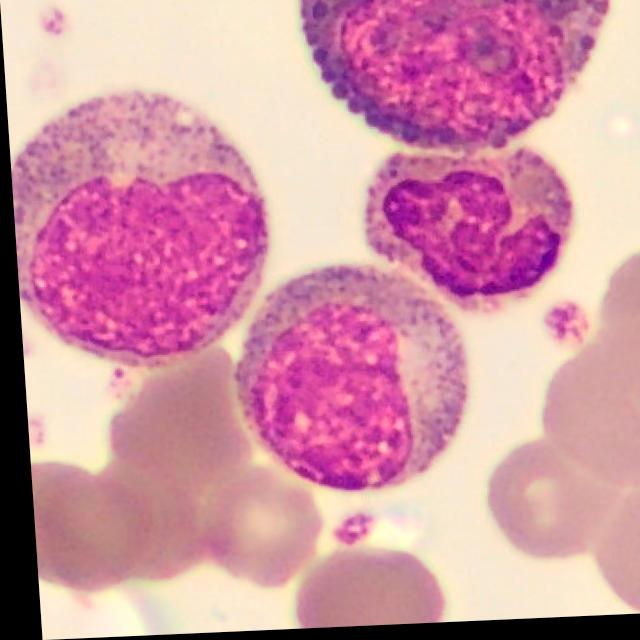Mielocito: (9, 92, 267, 370), (230, 264, 464, 497)
Neutrofilo segmentado: (362, 152, 572, 310)
Promielocito: (299, 0, 611, 158)
